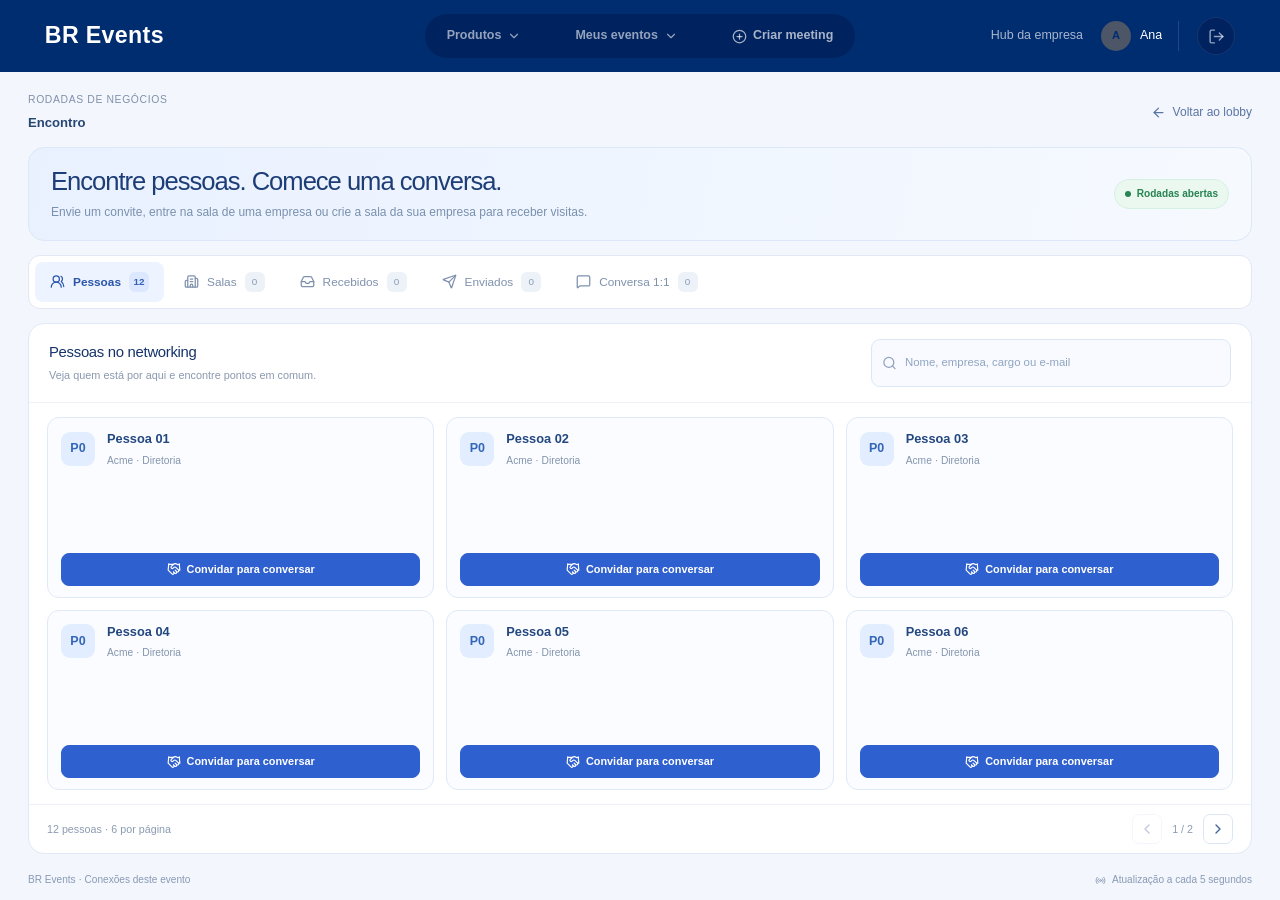
Test: networking › preserva o formulário e informa quando um convite falha
Click the button "Convidar para conversar" below "Pessoa 01" at (241, 569), box 61,553 -> 420,586
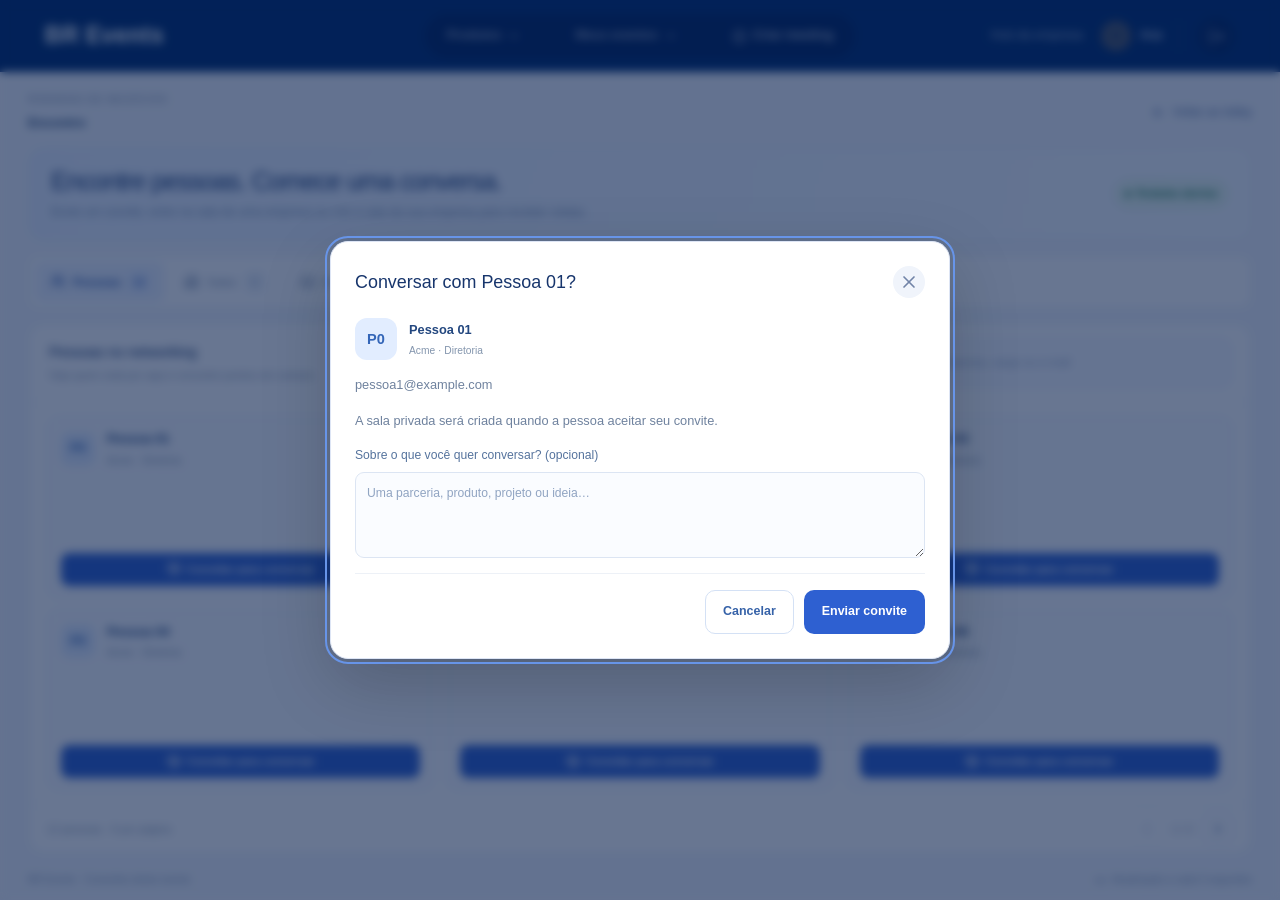
Type "Parceria" into the text box at (640, 515), box 355,472 -> 925,558
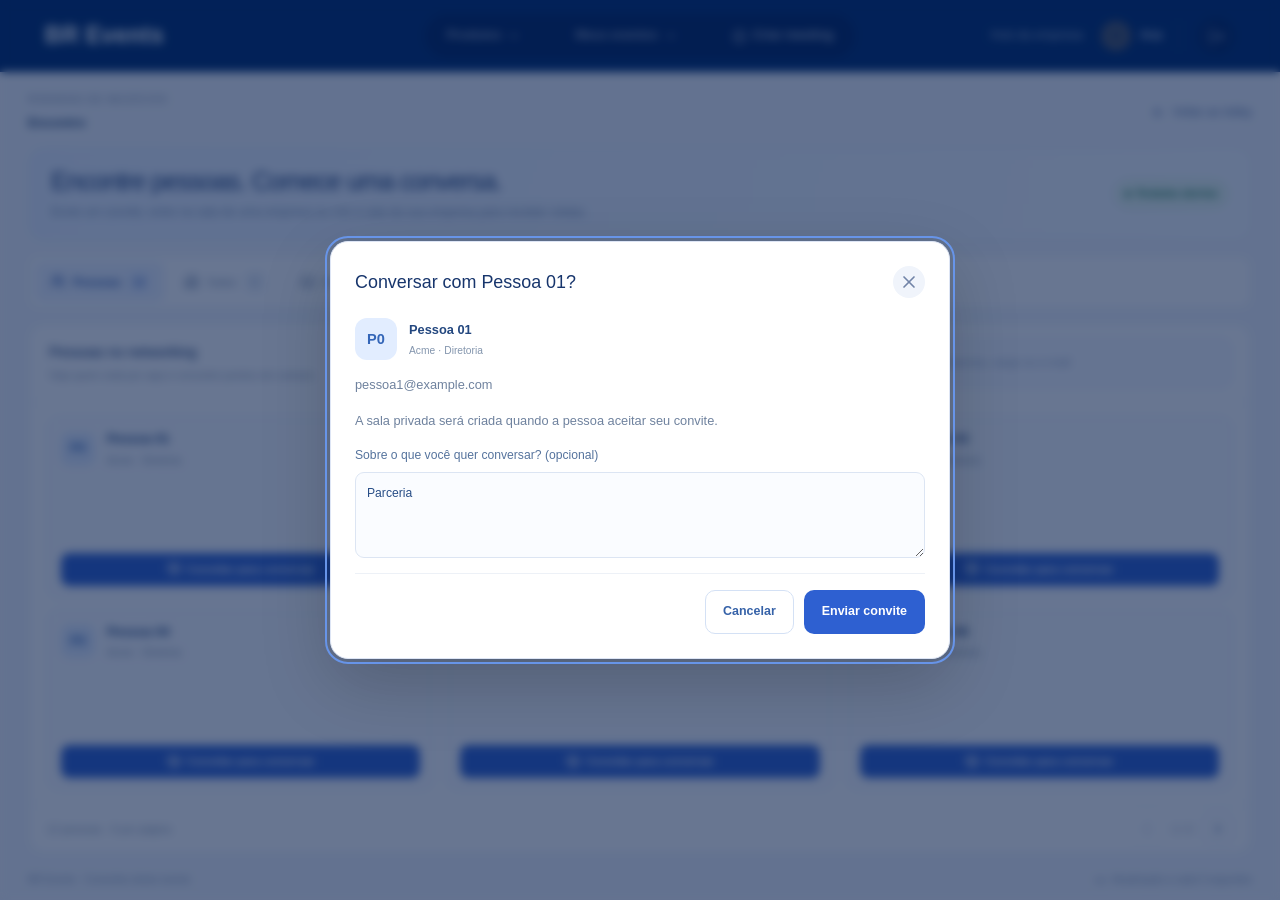
Click the button "Enviar convite" at (864, 612), box 804,590 -> 925,634
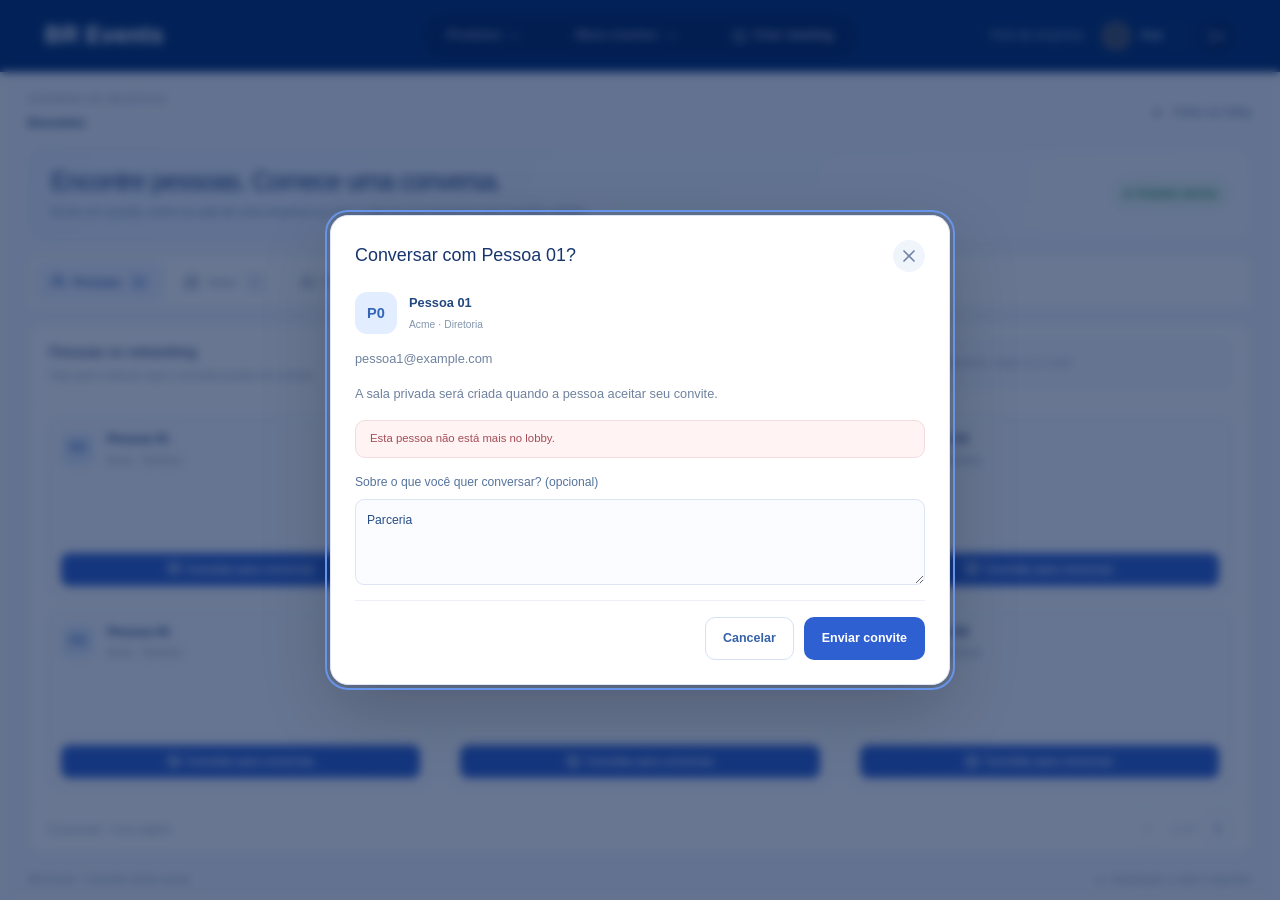
Check: the text "Esta pessoa não está mais no lobby." is shown, box 355,420 -> 925,458
